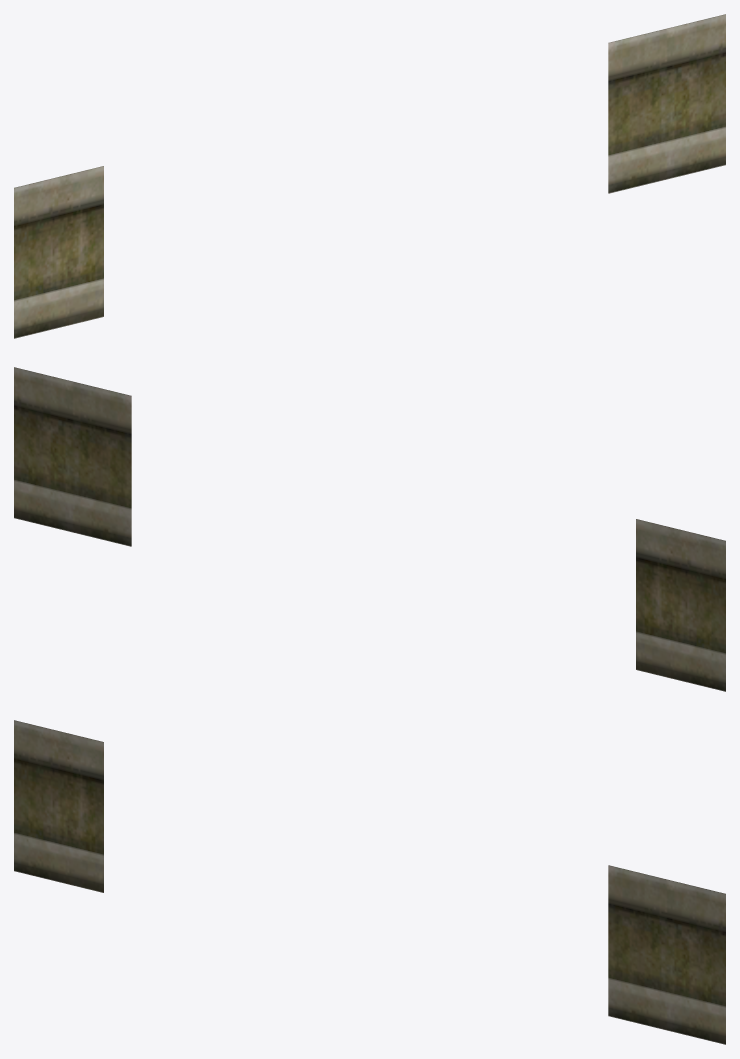
Rendered from CH09_SMAUG_PLAYSURFACE_LAIR113.fbx.
3 views of the same model, one above another, from view 1: azimuth 30°, elevation 25°; view 2: azimuth 150°, elevation 25°; view 3: azimuth 330°, elevation 25° (orthographic).
Visible parts, largest first — view 1: CH09_SMAUG_PLAYSURFACE_LAIR113; view 2: CH09_SMAUG_PLAYSURFACE_LAIR113; view 3: CH09_SMAUG_PLAYSURFACE_LAIR113.
Boxes of the visible parts, left/top/right/bottom form: CH09_SMAUG_PLAYSURFACE_LAIR113: left=14, top=14, right=725, bottom=338; CH09_SMAUG_PLAYSURFACE_LAIR113: left=14, top=367, right=725, bottom=691; CH09_SMAUG_PLAYSURFACE_LAIR113: left=14, top=720, right=725, bottom=1044.
Bounding box in the file's own units: 160440 × 32523 × 0.0297.
Materials: 1 (1 with a texture image).
